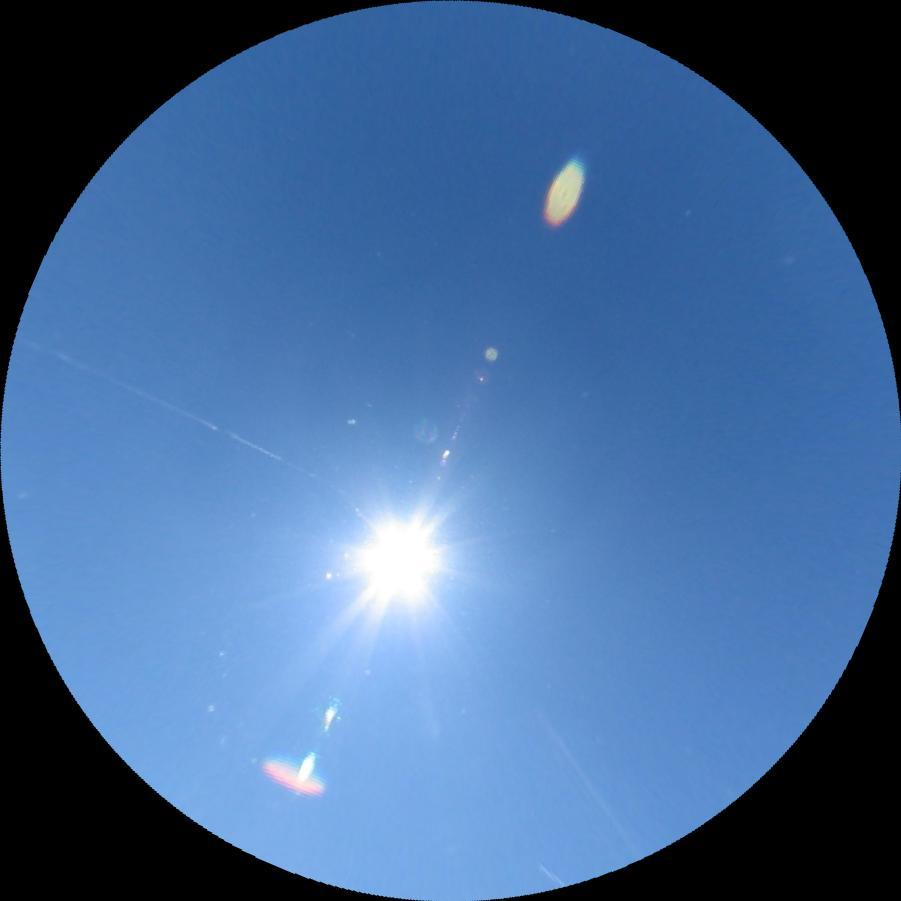contrail young: (534, 863, 567, 891)
parasite: (15, 329, 348, 494), (521, 696, 648, 861)
sun: (351, 515, 442, 602)
